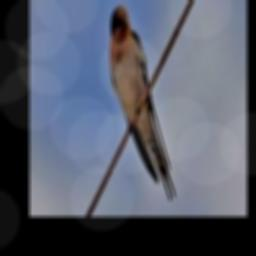Swallow: (108, 5, 174, 200)
